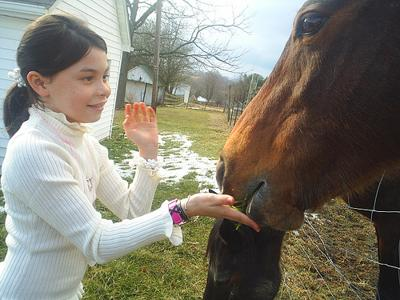person: (5, 13, 261, 300)
